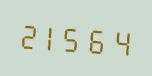five: (64, 19, 86, 56)
four: (110, 22, 132, 59)
one: (41, 17, 63, 55)
six: (87, 20, 109, 58)
two: (18, 16, 40, 53)
